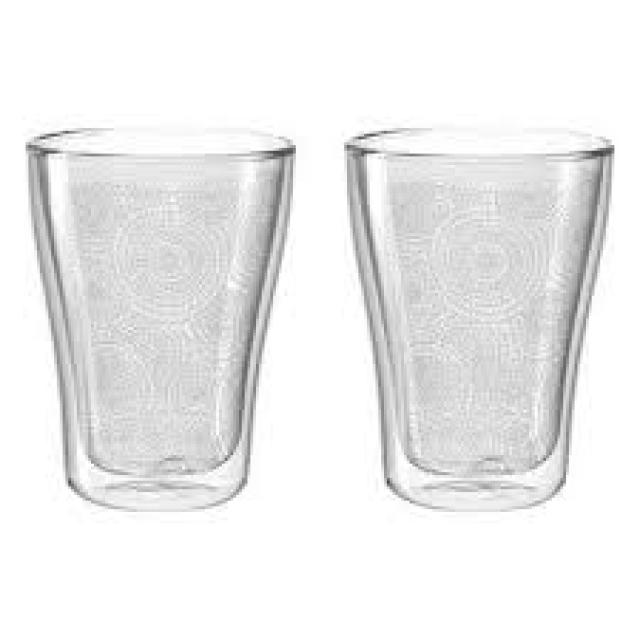glass: (344, 128, 612, 506), (26, 128, 293, 506)
